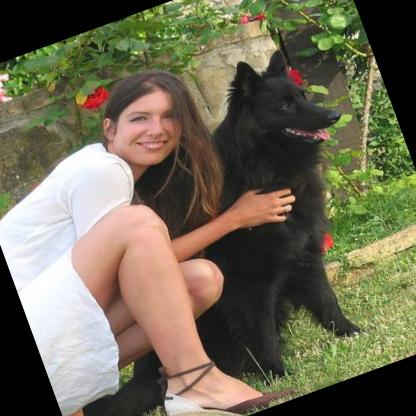groenendael: (0, 32, 416, 416)
